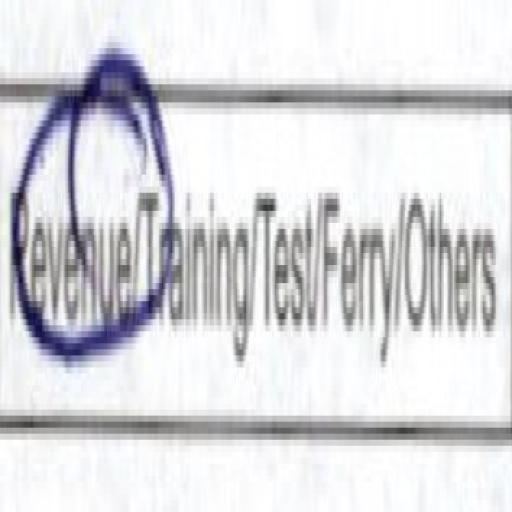check: (2, 33, 140, 408)
